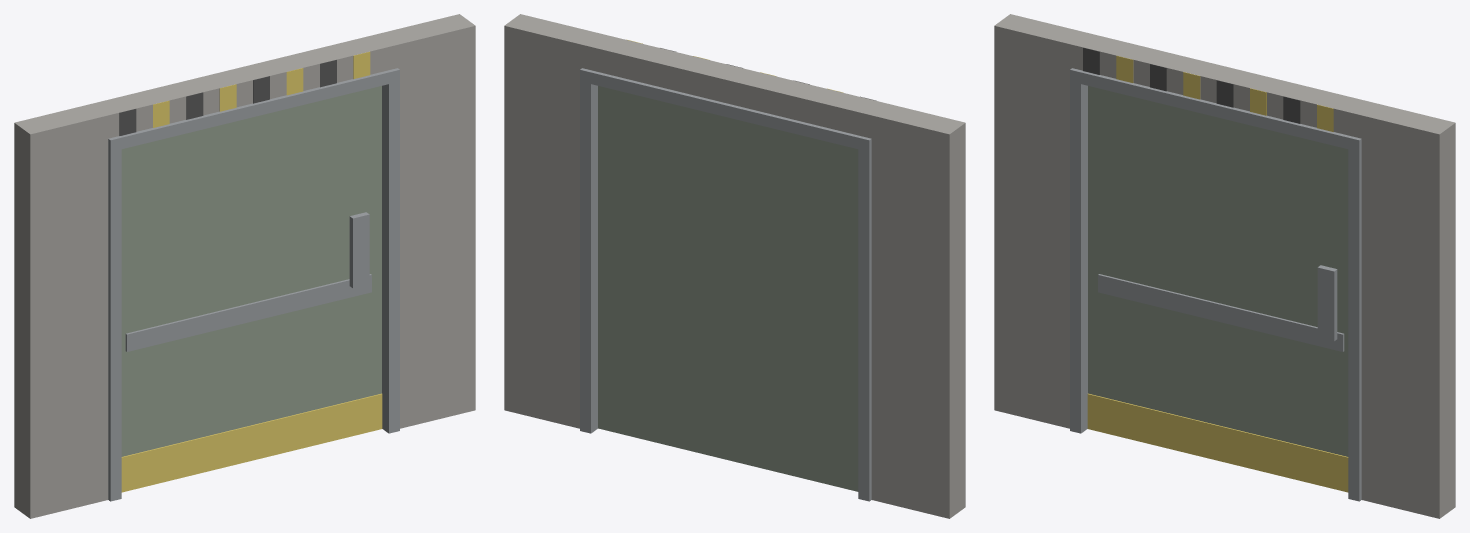
File: kit_door.glb
3 renders of one model, left to right at view 1: azimuth 30°, elevation 25°; view 2: azimuth 150°, elevation 25°; view 3: azimuth 330°, elevation 25°, orthographic.
Visible parts, largest first — view 1: frame, door; view 2: frame, door; view 3: frame, door.
Part boxes in pixels (<box>): frame: <box>14,14,475,518</box>; door: <box>121,86,382,492</box>; frame: <box>504,14,965,518</box>; door: <box>598,86,858,491</box>; frame: <box>994,14,1455,518</box>; door: <box>1087,86,1348,492</box>.
Size of the model in its own units: 4 by 3.3 by 0.3198.
